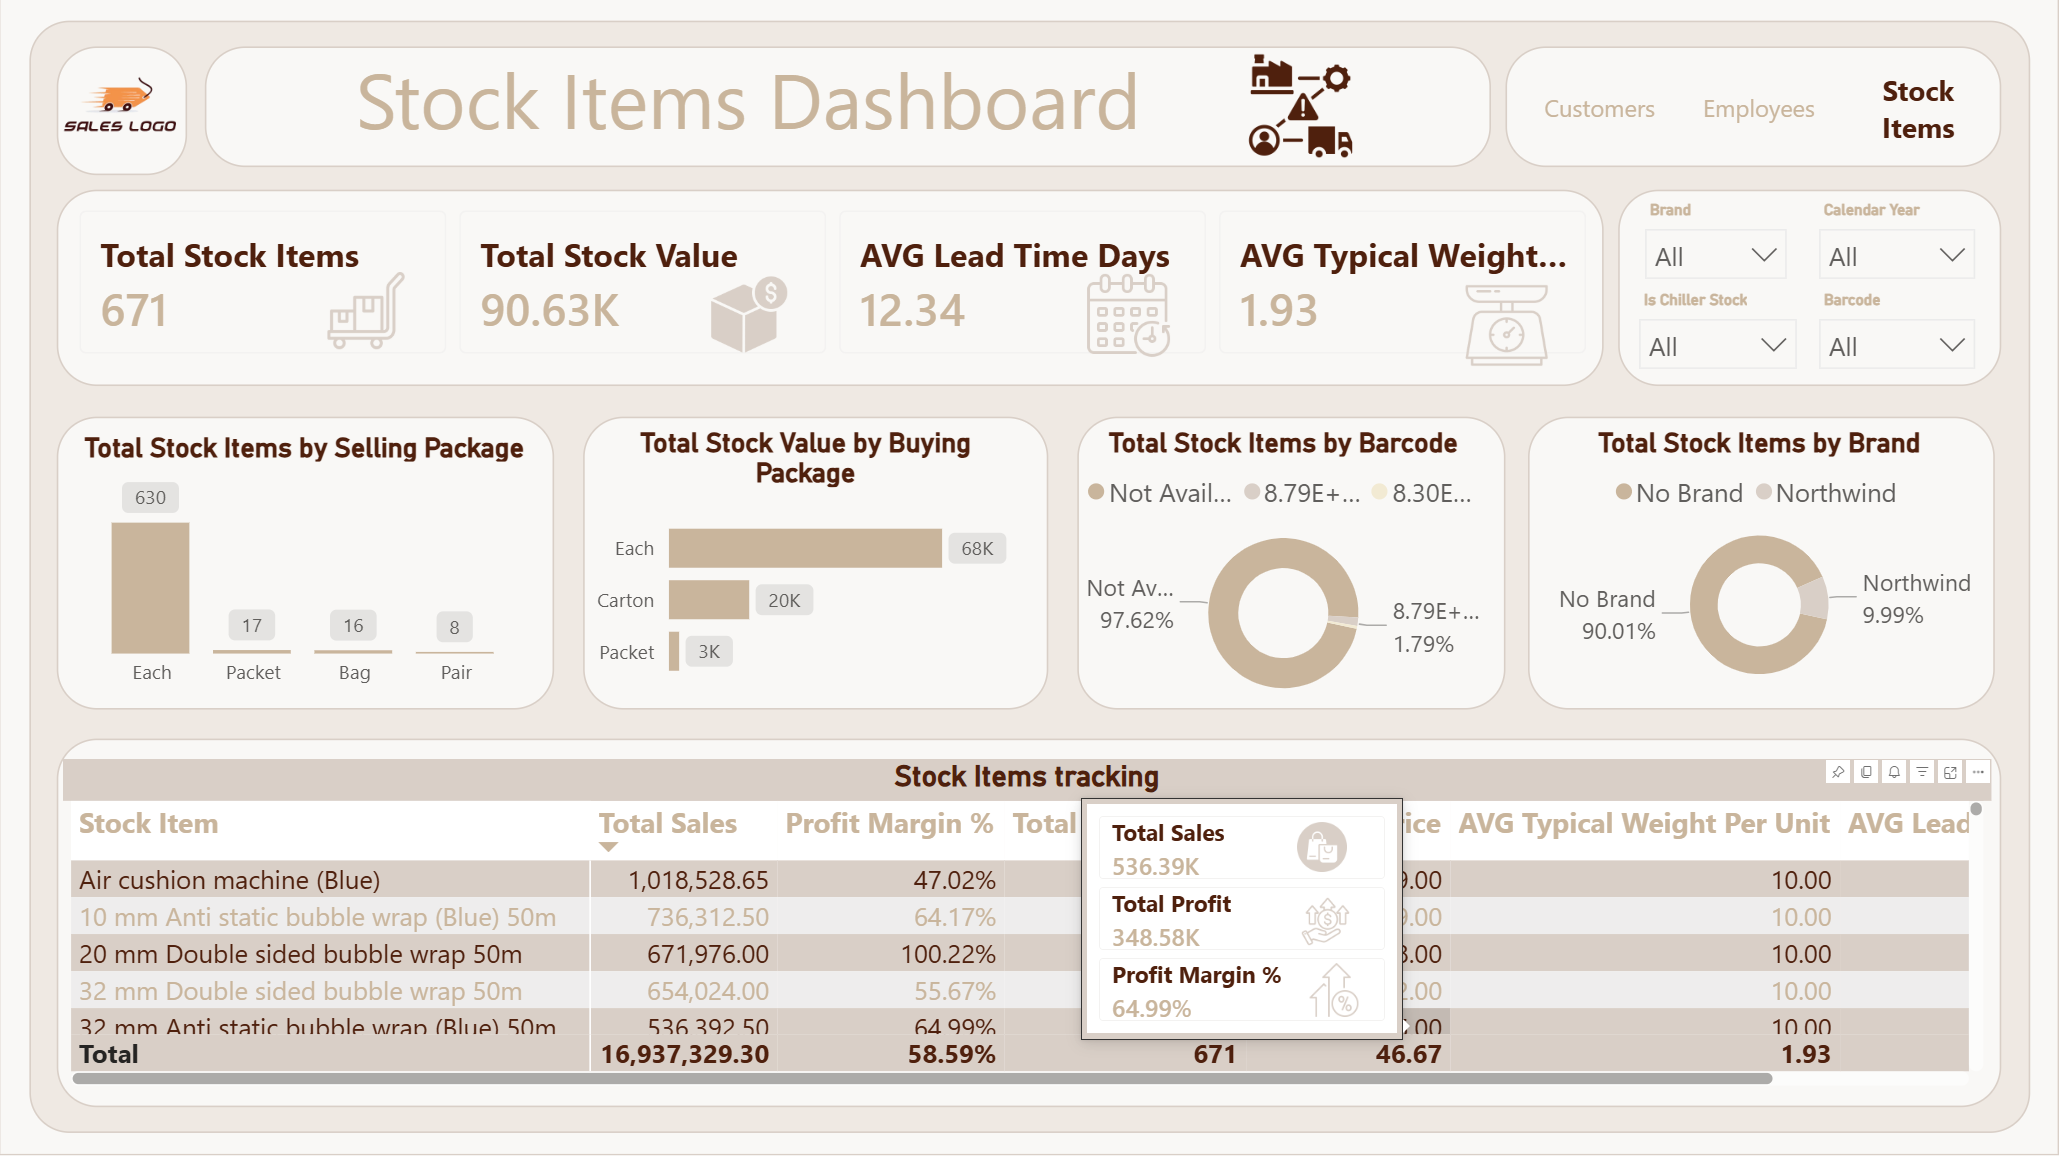

This screenshot's page, from the dashboard's own definition file:
{"tool":"powerbi","page":{"name":"Stock Items","canvas":[1280,720],"ordinal":2},"visuals":[{"type":"textbox","box":[136.7,24.2,657.6,96.3],"z":0},{"type":"image","box":[745.8,33.8,124.9,66.9],"z":1},{"type":"pageNavigator","box":[950.1,39.7,287.3,55.8],"z":2},{"type":"image","box":[15.4,24.2,114.6,86.7],"z":3},{"type":"cardVisual","fields":{"Data":["_Measures.Total Stock Items","_Measures.Total Stock Value","_Measures.AVG Lead Time Days","_Measures.AVG Typical Weight Per Unit"]},"box":[33.1,114.6,970.7,123.4],"z":4},{"type":"pivotTable","title":"Stock Items tracking","fields":{"Rows":["DimStockItem.Stock Item"],"Values":["_Measures.Total Sales","_Measures.Profit Margin %","_Measures.Total Stock Items","_Measures.Avg Unit Price","_Measures.AVG Typical Weight Per Unit","_Measures.AVG Lead Time Days"]},"box":[39.7,472.5,1197.7,207.9],"z":5},{"type":"columnChart","fields":{"Category":["DimStockItem.Selling Package"],"Y":["_Measures.Total Stock Items"]},"box":[39.7,268.9,299.8,168.3],"z":6},{"type":"barChart","fields":{"Category":["DimStockItem.Buying Package"],"Y":["_Measures.Total Stock Value"]},"box":[362.3,266,277.7,171.2],"z":7},{"type":"donutChart","fields":{"Category":["DimStockItem.Barcode"],"Y":["_Measures.Total Stock Items"]},"box":[665.7,266,263.8,181.5],"z":8},{"type":"donutChart","fields":{"Category":["DimStockItem.Brand"],"Y":["_Measures.Total Stock Items"]},"box":[950.1,266,287.3,171.2],"z":9},{"type":"slicer","fields":{"Values":["DimStockItem.Is Chiller Stock"]},"box":[1008.9,176.3,117.6,70.5],"z":10},{"type":"slicer","fields":{"Values":["DimStockItem.Brand"]},"box":[1012.5,120.5,108,55.8],"z":11},{"type":"slicer","fields":{"Values":["DimStockItem.Barcode"]},"box":[1120.6,176.3,116.8,70.5],"z":12},{"type":"slicer","fields":{"Values":["DimDate.Calendar Year"]},"box":[1120.6,120.5,116.8,55.8],"z":13},{"type":"image","box":[181.7,170.4,92.5,47.9],"z":14},{"type":"image","box":[413,169.7,105.8,54.4],"z":15},{"type":"image","box":[652.3,169.7,99.2,54.6],"z":16},{"type":"image","box":[886.9,176.3,99.2,54.4],"z":17}]}

Visuals, with their boxes in screenshot pixels (x1, y1, x2, y2), scaled from the page's 1280x720 canvas onto the 2060x1156 screenshot:
textbox: select_region(220, 39, 1278, 193)
image: select_region(1200, 54, 1401, 162)
pageNavigator: select_region(1529, 64, 1991, 153)
image: select_region(25, 39, 209, 178)
cardVisual - _Measures.Total Stock Items x _Measures.Total Stock Value: select_region(53, 184, 1615, 382)
"Stock Items tracking" pivotTable: select_region(64, 759, 1991, 1092)
columnChart - DimStockItem.Selling Package x _Measures.Total Stock Items: select_region(64, 432, 546, 702)
barChart - DimStockItem.Buying Package x _Measures.Total Stock Value: select_region(583, 427, 1030, 702)
donutChart - DimStockItem.Barcode x _Measures.Total Stock Items: select_region(1071, 427, 1496, 718)
donutChart - DimStockItem.Brand x _Measures.Total Stock Items: select_region(1529, 427, 1991, 702)
slicer - DimStockItem.Is Chiller Stock: select_region(1624, 283, 1813, 396)
slicer - DimStockItem.Brand: select_region(1629, 193, 1803, 283)
slicer - DimStockItem.Barcode: select_region(1803, 283, 1991, 396)
slicer - DimDate.Calendar Year: select_region(1803, 193, 1991, 283)
image: select_region(292, 274, 441, 350)
image: select_region(665, 272, 835, 360)
image: select_region(1050, 272, 1209, 360)
image: select_region(1427, 283, 1587, 370)
